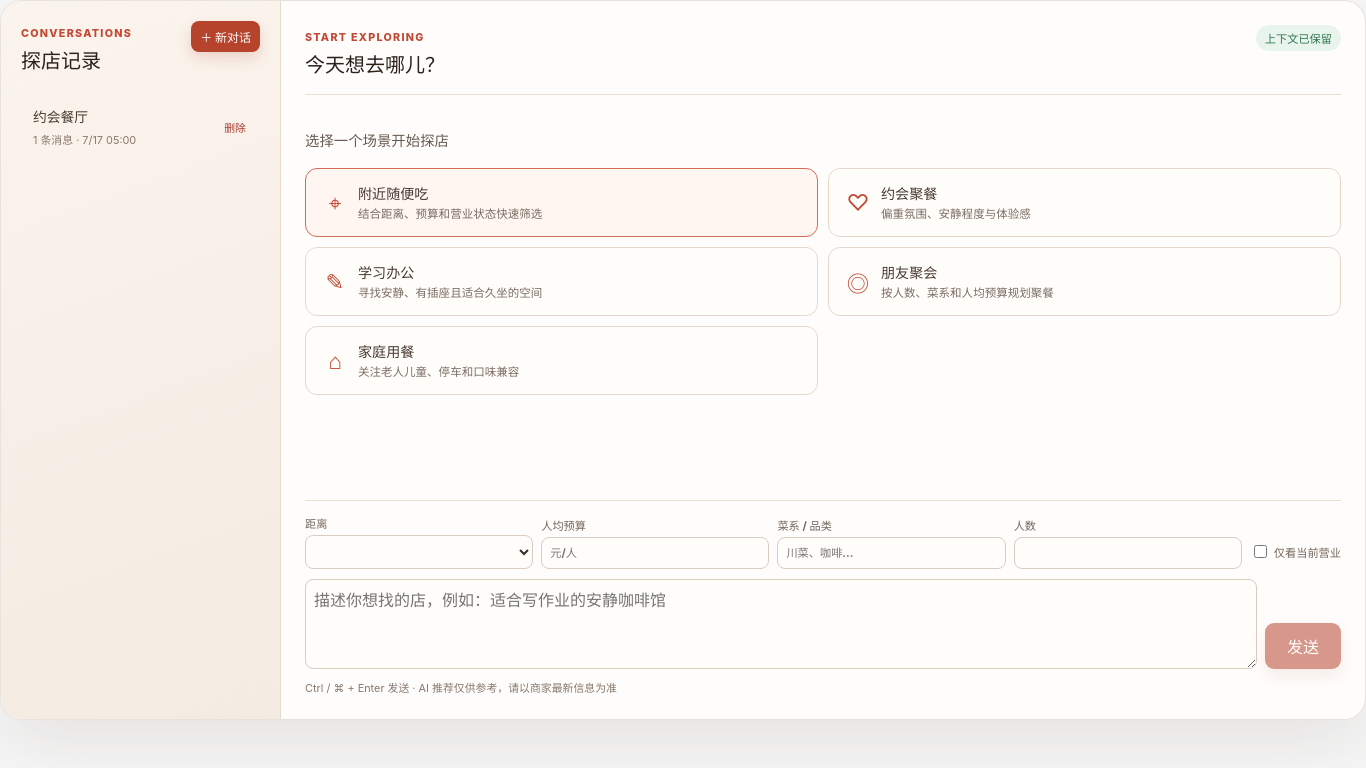
Test: ConversationWorkspace › loads messages when a server conversation is selected
This screenshot has width=1366, height=768.
Click the button "约会餐厅 1 条消息 · 7/17 05:00". click: coordinates (140, 126)
box: [21,94,260,159]
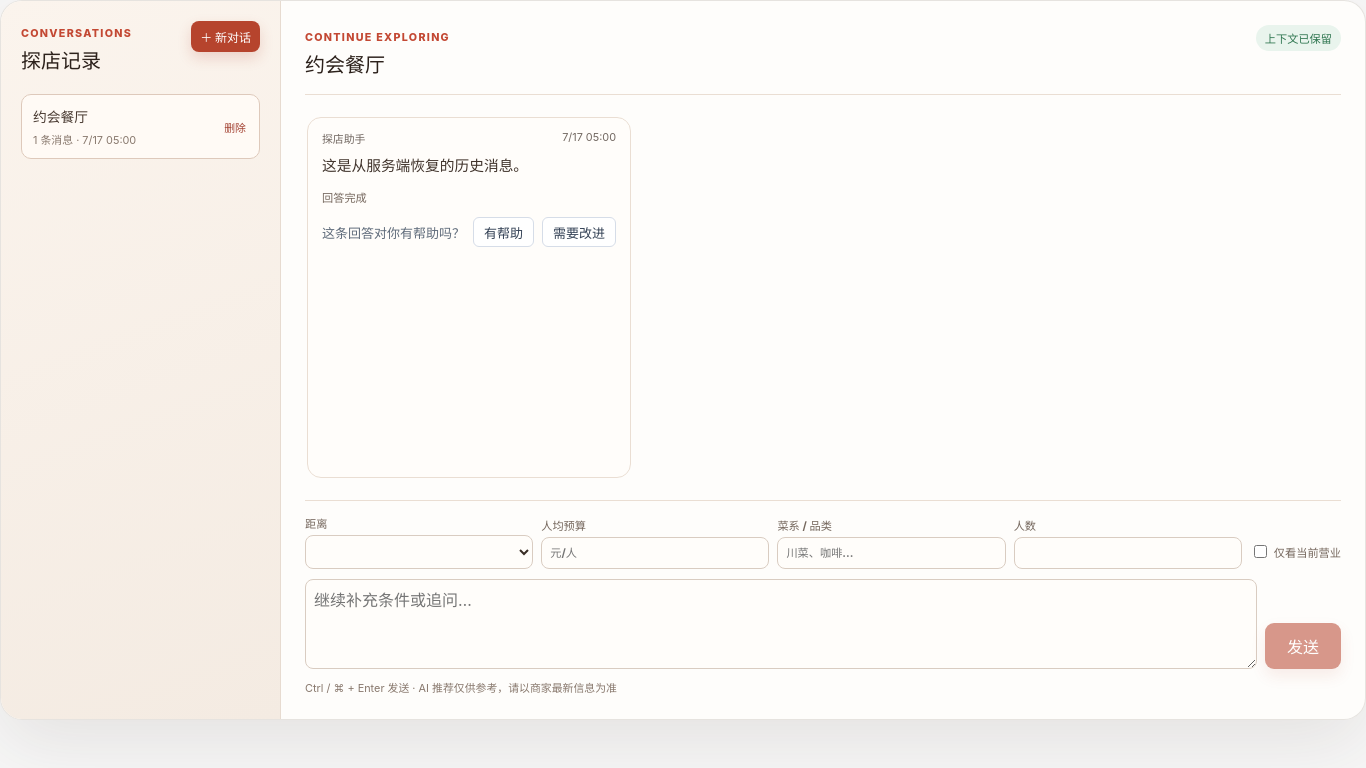
Expected: the text "这是从服务端恢复的历史消息" is shown, [322,157,528,175]
